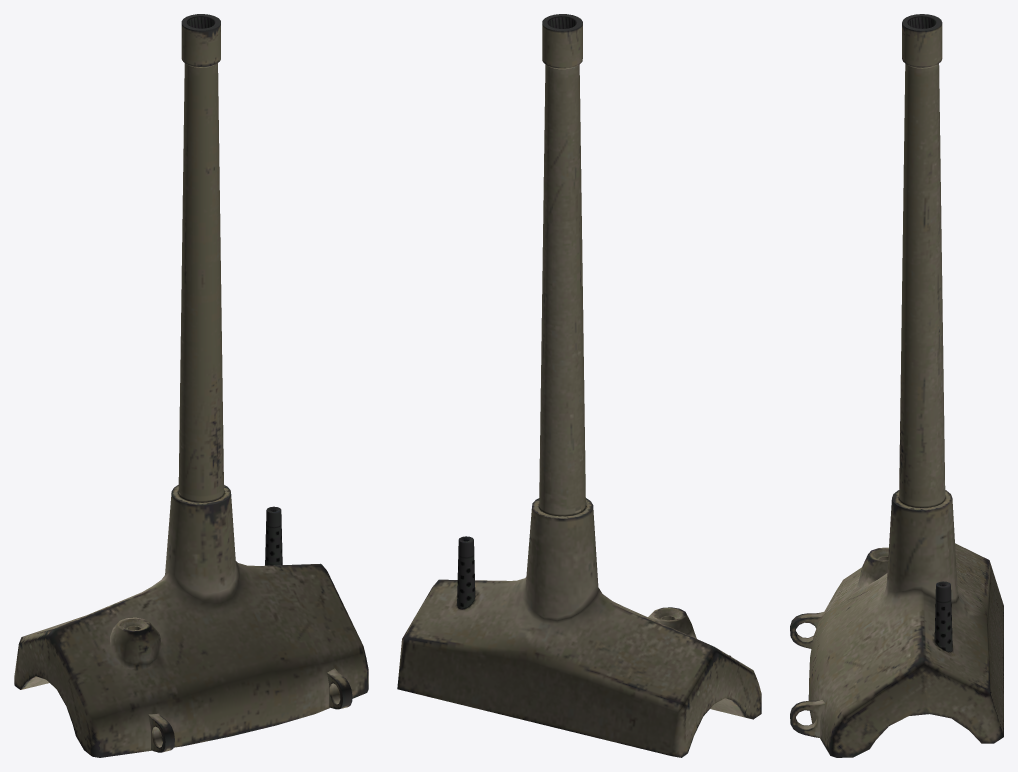
Rendered from Gun_01.glb.
3 renders of one model, left to right at view 1: azimuth 30°, elevation 25°; view 2: azimuth 150°, elevation 25°; view 3: azimuth 270°, elevation 25°, orthographic. The views are drawn at different scales.
Visible parts, largest first — view 1: set_0_group_0; view 2: set_0_group_0; view 3: set_0_group_0.
Boxes of the visible parts, bbox=[...] form: set_0_group_0: bbox=[14, 14, 368, 757]; set_0_group_0: bbox=[397, 14, 761, 757]; set_0_group_0: bbox=[790, 14, 1003, 757].
Size of the model in its own units: 0.8812 by 2.03 by 0.5836.
Materials: 1 (1 with a texture image).
